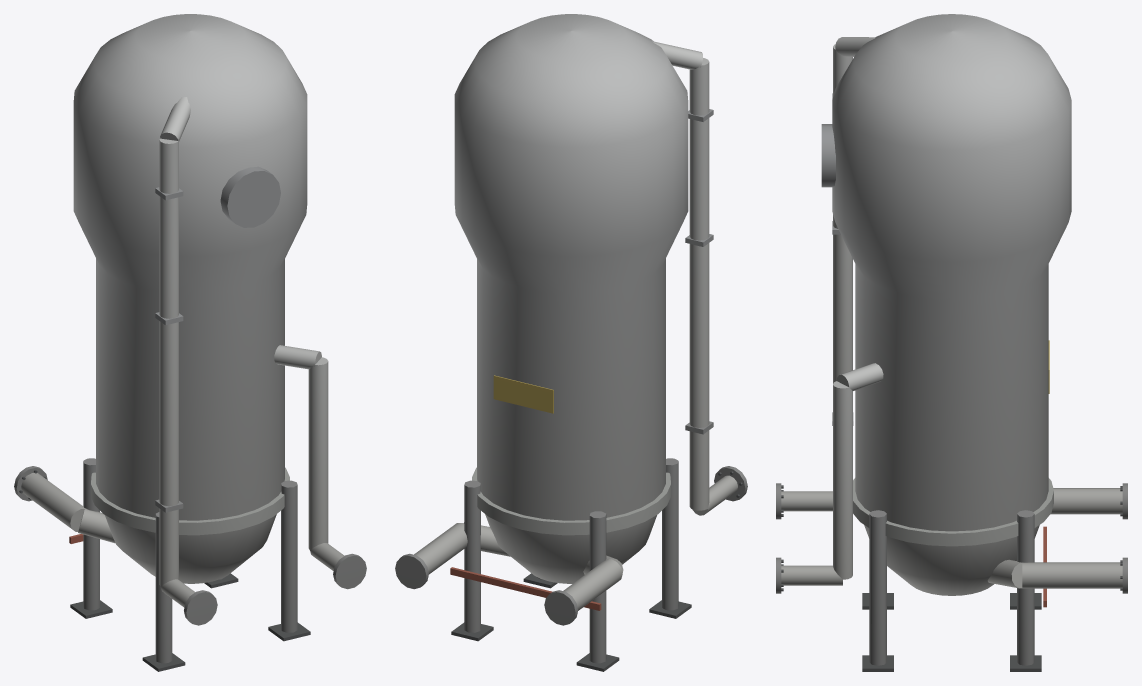
The model's file is steamGen_steel.glb.
The picture shows the model from 3 angles, left to right: view 1: azimuth 30°, elevation 25°; view 2: azimuth 150°, elevation 25°; view 3: azimuth 270°, elevation 25°; orthographic projection. The views are drawn at different scales.
Parts seen in each view (by area): view 1: steamGen_steel; view 2: steamGen_steel; view 3: steamGen_steel.
Boxes of the visible parts, x1,y1,x2,y2 form: steamGen_steel: (14,14,366,671); steamGen_steel: (395,14,747,671); steamGen_steel: (776,14,1127,671).
Size of the model in its own units: 1.36 by 3.78 by 2.
